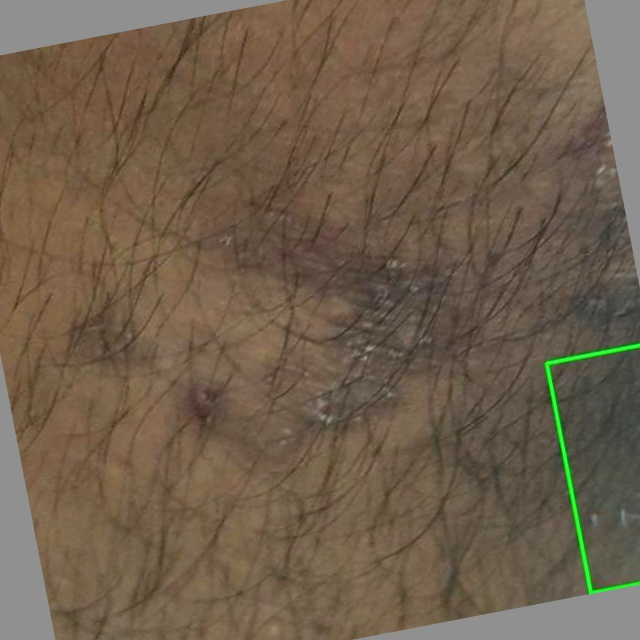Tinea Corporis: (546, 345, 639, 593)
